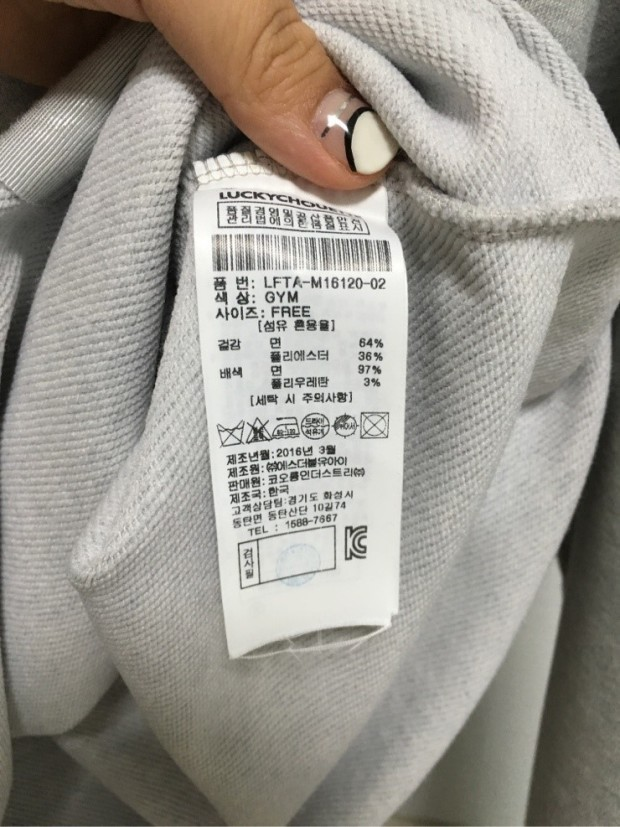KR_dry_clean_petroleum: (299, 410, 332, 441)
KR_flat_dry_in_shade: (332, 411, 359, 438)
KR_hand_wash_30_neutral: (217, 418, 245, 447)
KR_iron_low_temp_with_cloth: (272, 413, 302, 440)
KR_no_chlorine_bleach: (245, 415, 272, 444)
KR_no_tumble_dry: (359, 409, 393, 441)
